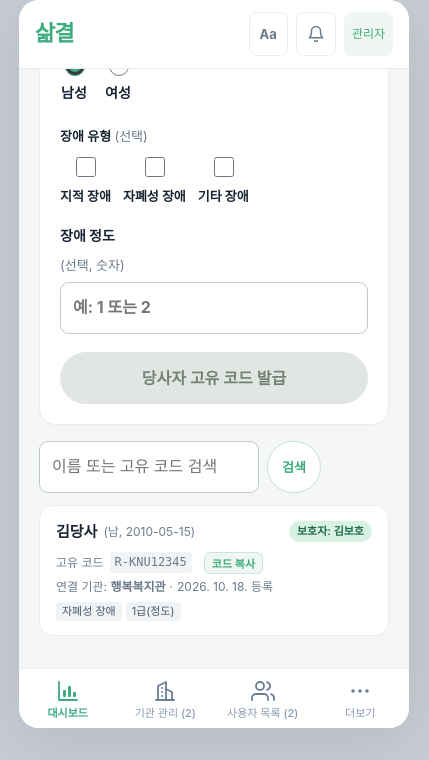
Test case: 고유 코드 복사 버튼 클릭 시 클립보드에 복사되고 복사됨 피드백이 표시된다
(page scrolled)
Expected: the text "김당사" is shown, [56, 520, 97, 544]
Click the button with aria-label "김당사 고유 코드 복사": [233, 563] box [204, 552, 263, 574]
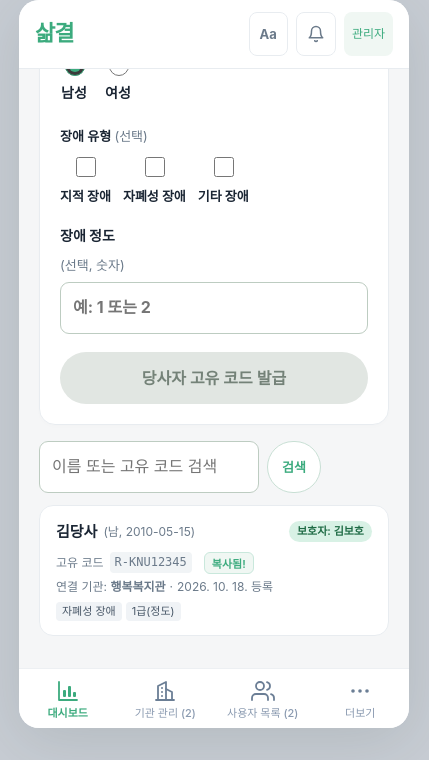
Result: the button "복사됨!" is shown at [204, 552, 254, 574]
